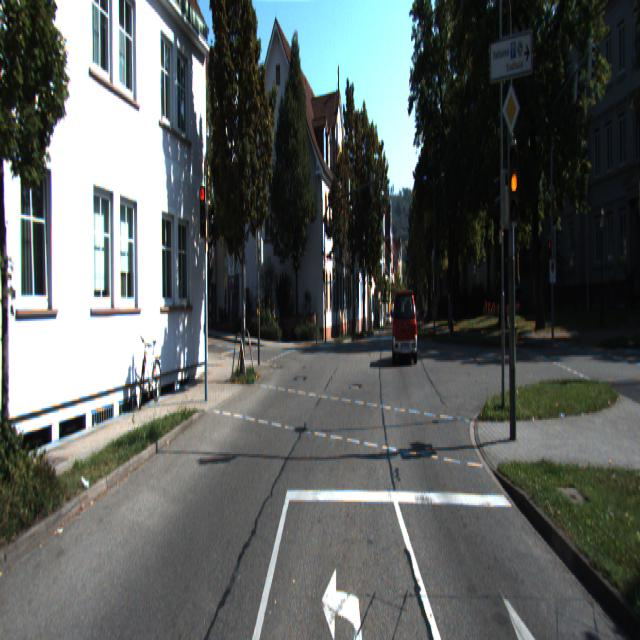Car: (392, 292, 419, 367)
